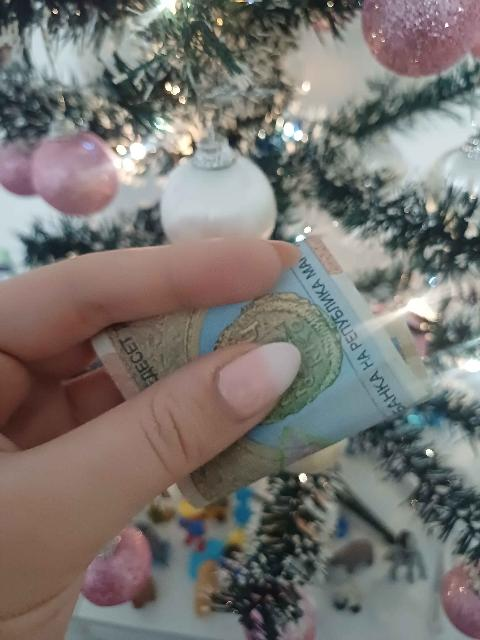50_note: (96, 241, 420, 507)
